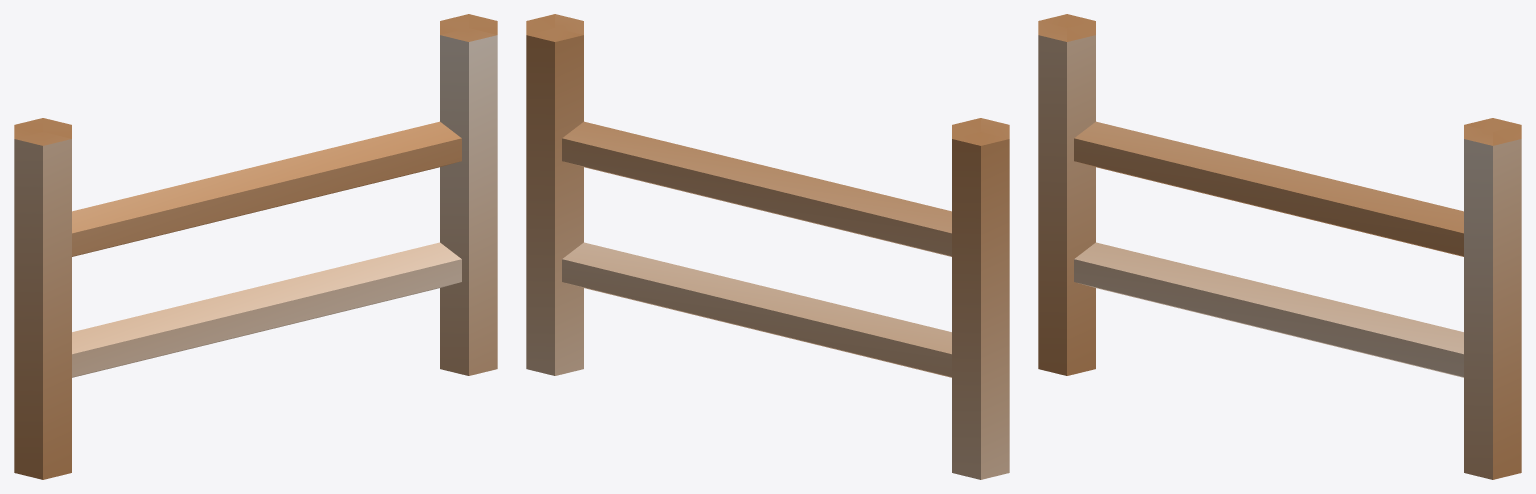
File: Cerca.fbx
The picture shows the model from 3 angles, left to right: view 1: azimuth 30°, elevation 25°; view 2: azimuth 150°, elevation 25°; view 3: azimuth 330°, elevation 25°; orthographic projection.
Parts seen in each view (by area): view 1: Cerca_LOD0; view 2: Cerca_LOD0; view 3: Cerca_LOD0.
Part boxes in pixels (left/top/right/bottom): Cerca_LOD0: left=14, top=14, right=497, bottom=479; Cerca_LOD0: left=526, top=14, right=1009, bottom=479; Cerca_LOD0: left=1038, top=14, right=1521, bottom=479.
Size of the model in its own units: 157 by 104 by 16.25.
